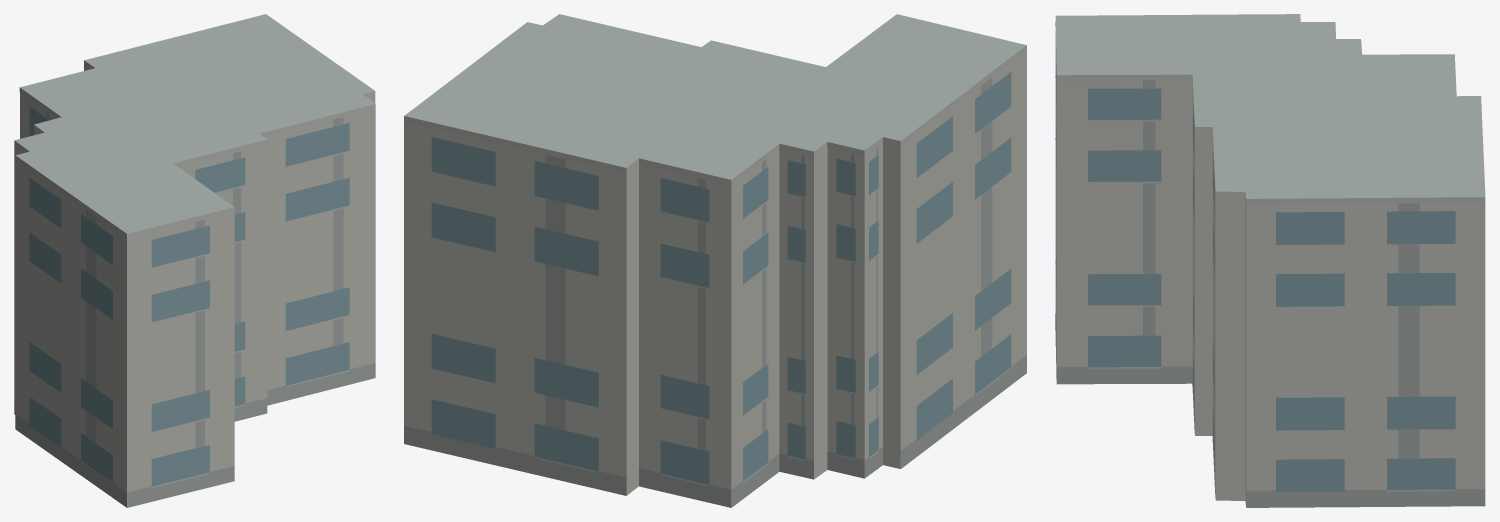
File: survey-upis-32820876.glb
The picture shows the model from 3 angles, left to right: view 1: azimuth 30°, elevation 25°; view 2: azimuth 150°, elevation 25°; view 3: azimuth 270°, elevation 25°; orthographic projection. The views are drawn at different scales.
Parts seen in each view (by area): view 1: survey-upis-32820876.tmp; view 2: survey-upis-32820876.tmp; view 3: survey-upis-32820876.tmp.
Part boxes in pixels (x1,y1,x2,y2): survey-upis-32820876.tmp: (14,14,375,507); survey-upis-32820876.tmp: (404,14,1026,507); survey-upis-32820876.tmp: (1055,14,1485,507).
Size of the model in its own units: 17.46 by 13.6 by 17.16.
